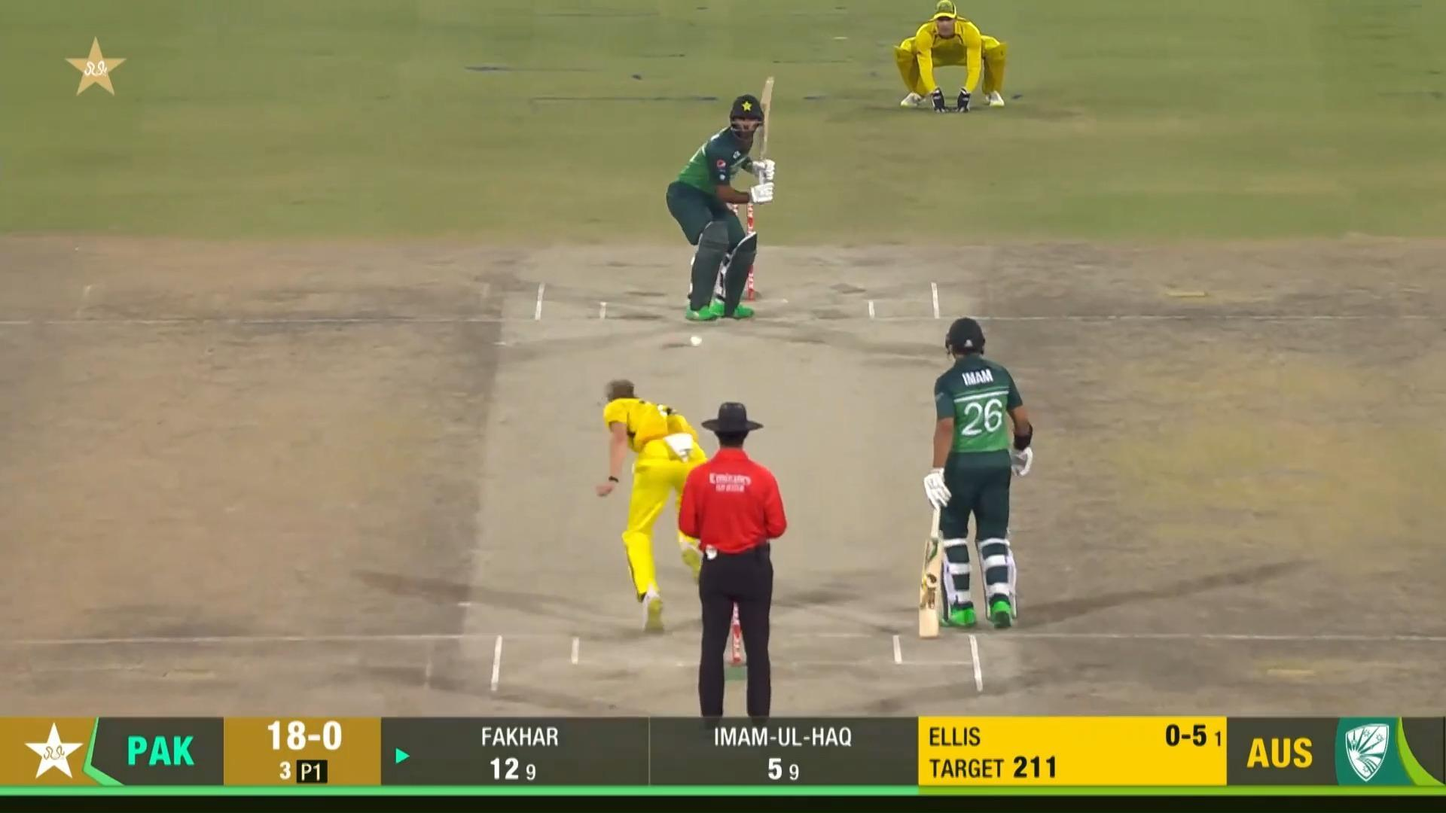BM 1: (665, 75, 778, 323)
BO: (593, 376, 711, 633)
